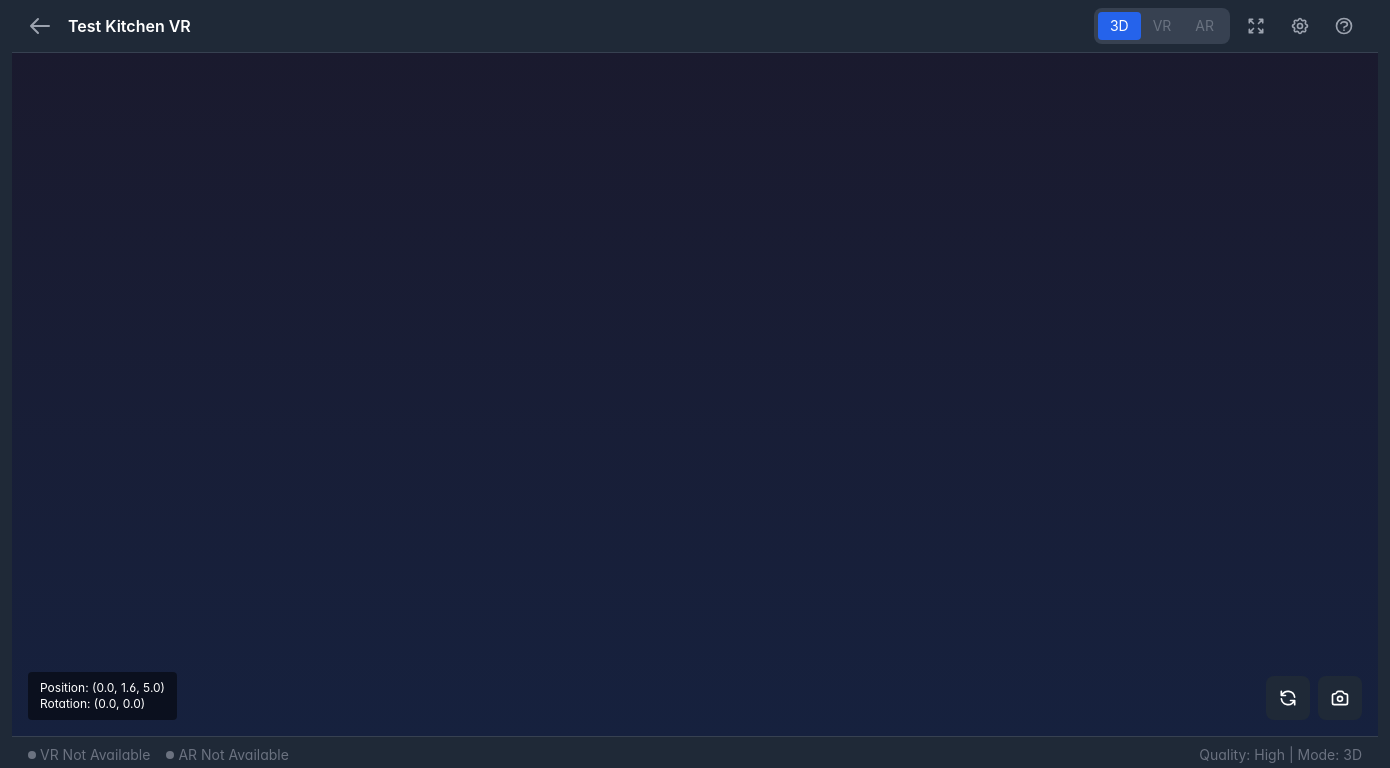
Test case: VRViewer › Help Panel › should show help panel when help button is clicked
This screenshot has width=1390, height=768.
Expected: the heading "Test Kitchen VR" is shown, 68,14 -> 191,38
Click the button titled "Help": click(1344, 26) 1326,8 -> 1362,44
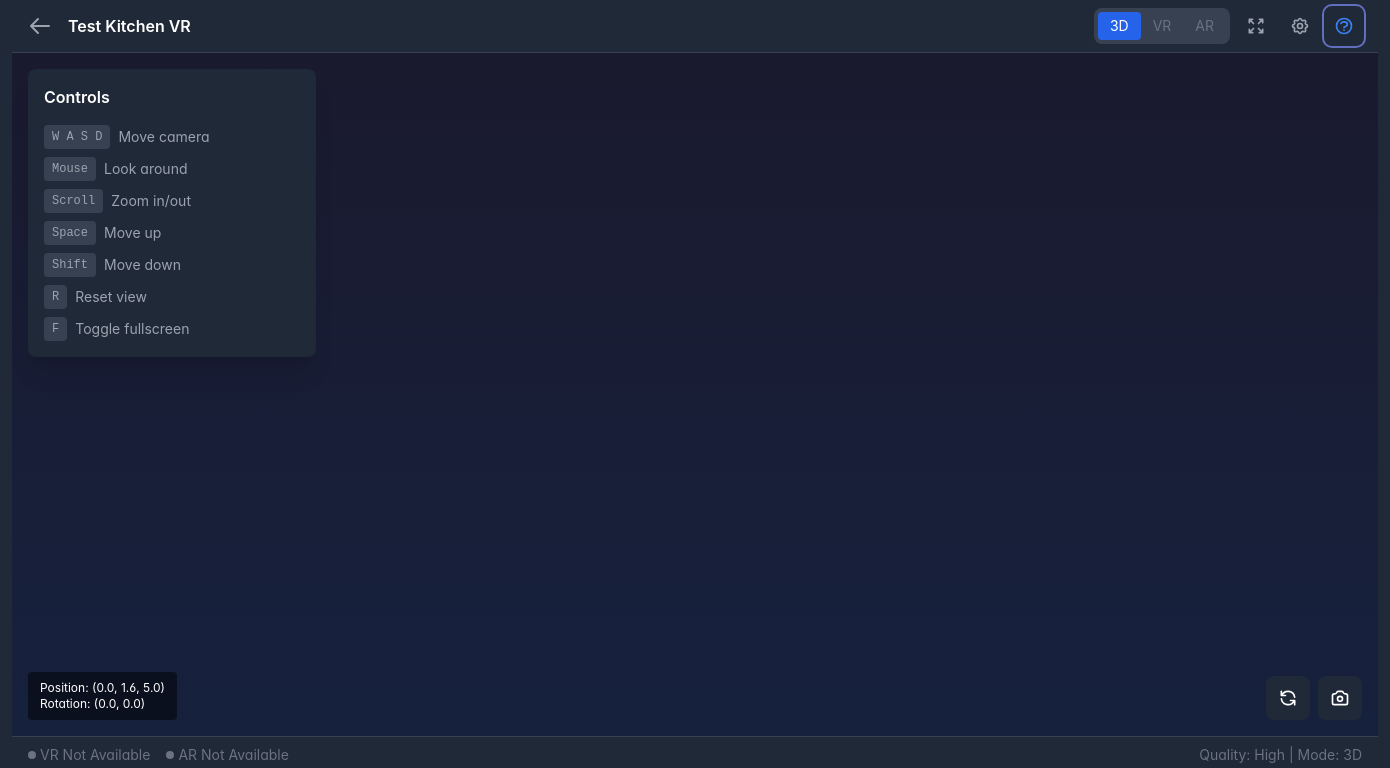
Result: the heading "Controls" is shown at 44,87 -> 110,107
